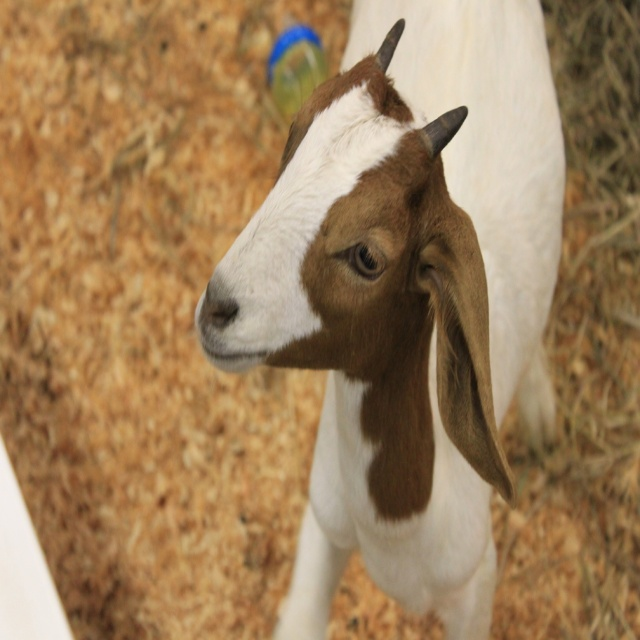Goat: (212, 23, 548, 632)
